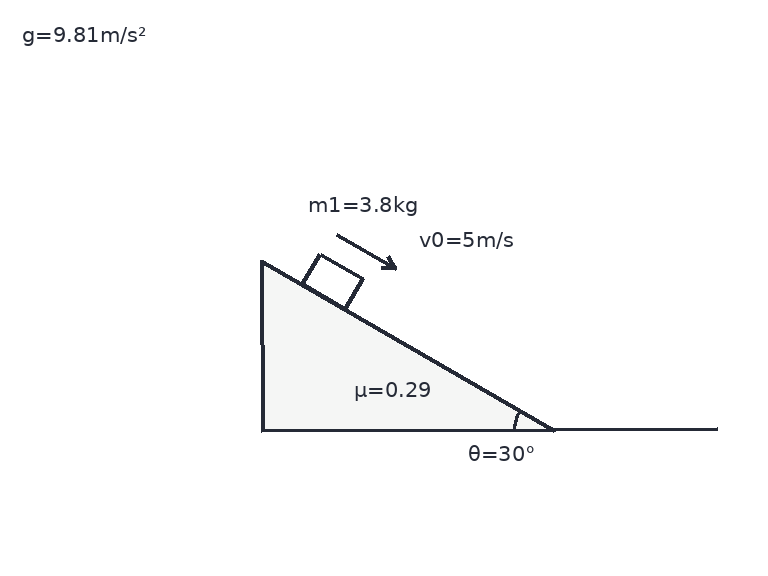block: (300, 252, 364, 311)
ramp: (260, 259, 556, 432)
